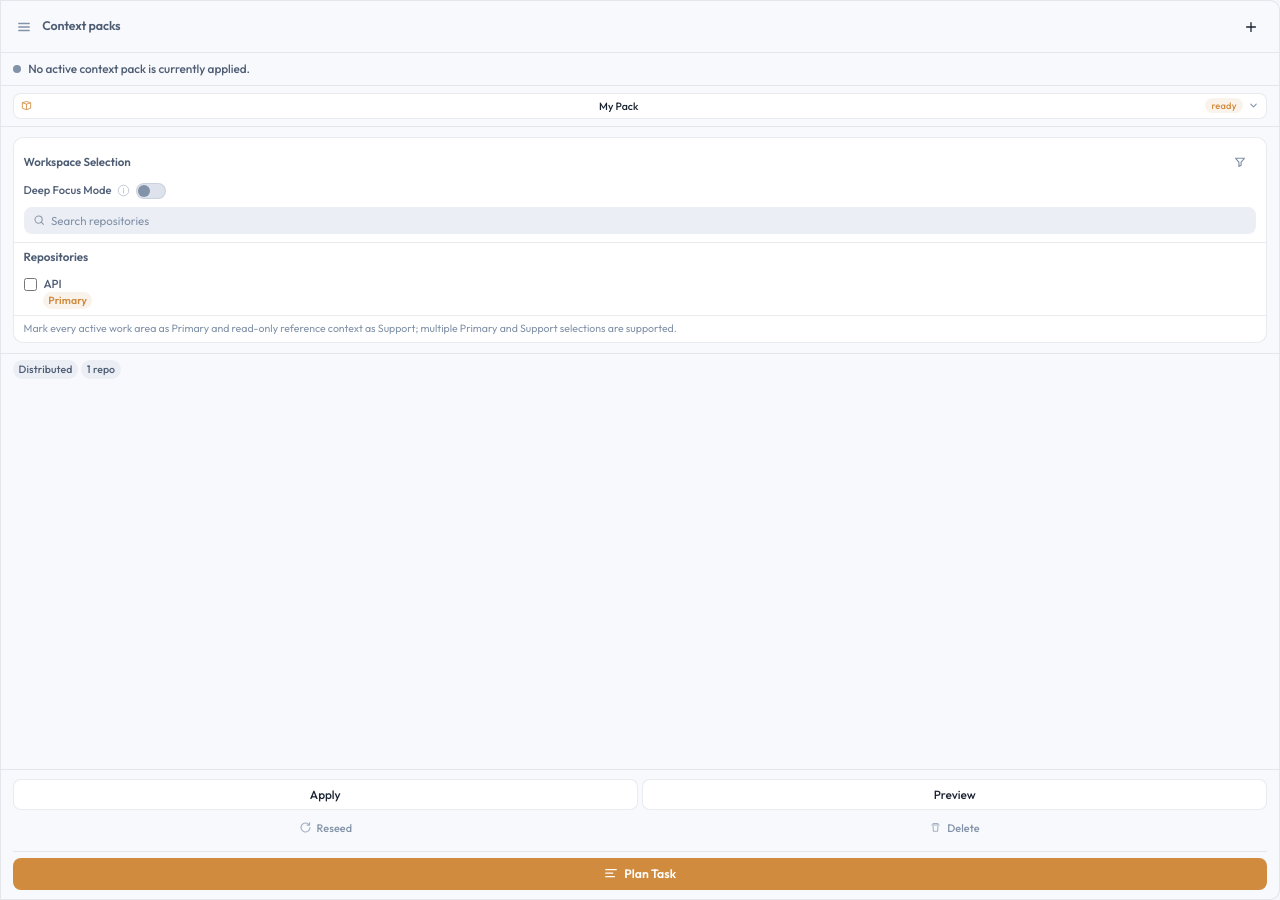
Test: ContextPackSidebarExpanded › forwards the centralized currentWorkspaceSelection into Focus Filters, not legacy selectedRepoIds
The image size is (1280, 900).
What coordinates should you click on to do the following:
click the button named "Manage focus filters"
I would click on:
 (1240, 162)
Its box is 1224,146 -> 1256,178.
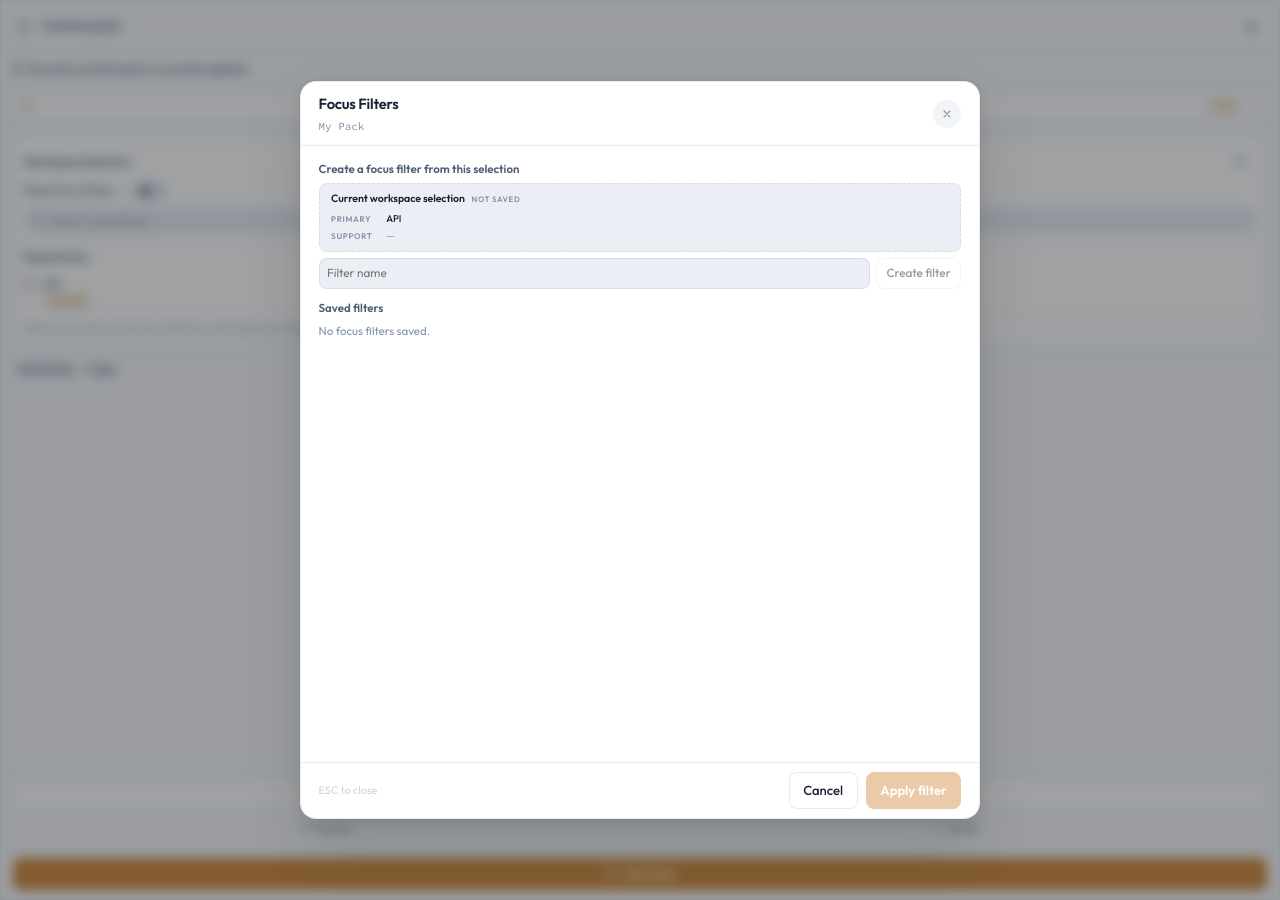
Expected: the text "Current workspace selection" is shown, 331,191 -> 465,205
Expected: the text "Primary" is shown, 331,214 -> 373,226
Expected: the text "API" is shown, 386,212 -> 401,225
